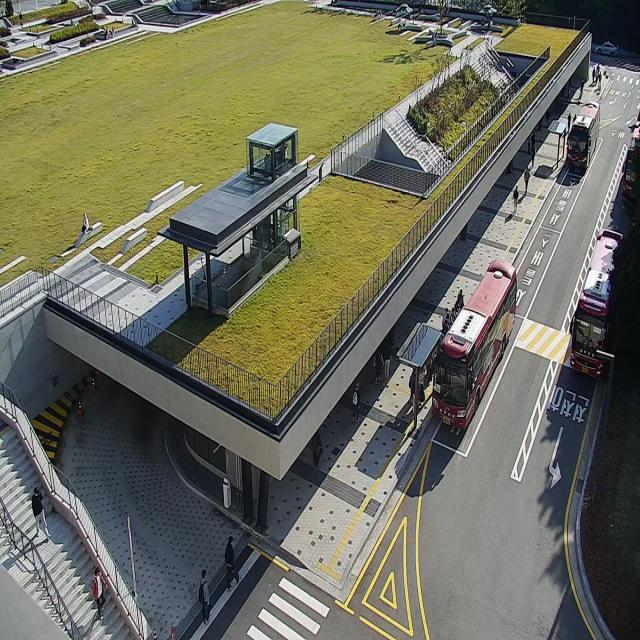queue: (413, 288, 462, 436)
